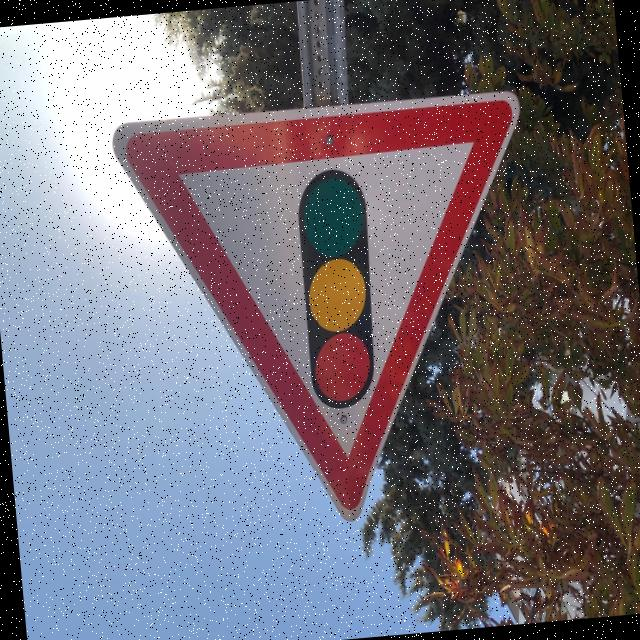light_traffic: (111, 81, 552, 536)
